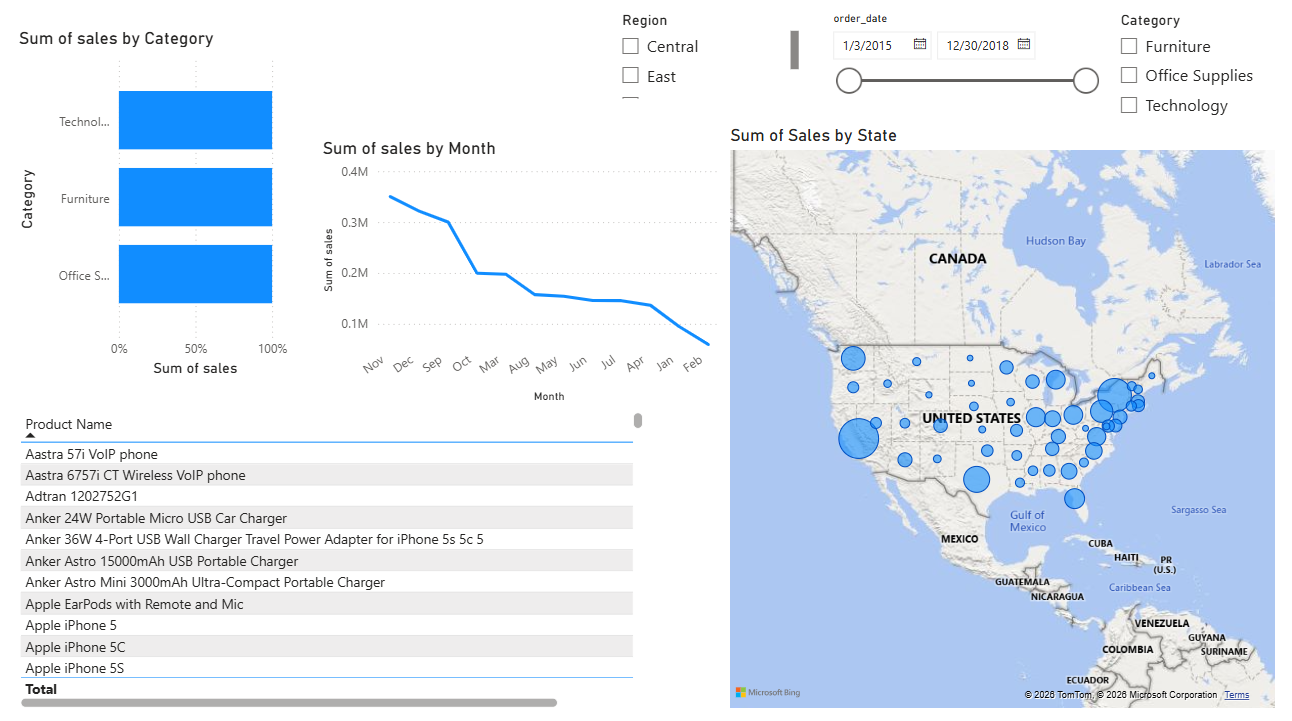

Layout of this report page (visuals, bound fields, positions):
{"tool":"powerbi","page":{"name":"visual & filter ","canvas":[1280,720],"ordinal":1},"visuals":[{"type":"lineChart","fields":{"Y":["Sum(vw_clean_sales.sales)"],"Category":["DateTable.Month"]},"box":[316.7,144.3,398.6,264.1],"z":0},{"type":"hundredPercentStackedBarChart","fields":{"Y":["Sum(vw_clean_sales.sales)"],"Category":["vw_clean_sales.Category"]},"box":[19.6,36.7,272.7,346.1],"z":1000},{"type":"map","fields":{"Category":["clean_sales_data.State"],"Size":["Sum(clean_sales_data.Sales)"]},"box":[715.4,132.1,542.9,574.7],"z":2000},{"type":"tableEx","fields":{"Values":["clean_sales_data.Product Name","Sum(vw_clean_sales.sales)"]},"box":[19.6,408.4,620,298.4],"z":3000},{"type":"slicer","fields":{"Values":["vw_clean_sales.order_date.Variation.Date Hierarchy.Year"]},"box":[808.3,15.9,281.3,95.4],"z":4000},{"type":"slicer","fields":{"Values":["vw_clean_sales.Region"]},"box":[601.6,15.9,190.8,95.4],"z":5000},{"type":"slicer","fields":{"Values":["vw_clean_sales.Category"]},"box":[1089.5,15.9,179.8,116.2],"z":6000}]}

Visuals, with their boxes in screenshot pixels (x1, y1, x2, y2), scaled from the page's 1280x720 canvas onto the 1292x721 screenshot:
lineChart - Sum(vw_clean_sales.sales) x DateTable.Month: x1=320, y1=145, x2=722, y2=409
hundredPercentStackedBarChart - Sum(vw_clean_sales.sales) x vw_clean_sales.Category: x1=20, y1=37, x2=295, y2=383
map - clean_sales_data.State x Sum(clean_sales_data.Sales): x1=722, y1=132, x2=1270, y2=708
tableEx - clean_sales_data.Product Name x Sum(vw_clean_sales.sales): x1=20, y1=409, x2=646, y2=708
slicer - vw_clean_sales.order_date.Variation.Date Hierarchy.Year: x1=816, y1=16, x2=1100, y2=111
slicer - vw_clean_sales.Region: x1=607, y1=16, x2=800, y2=111
slicer - vw_clean_sales.Category: x1=1100, y1=16, x2=1281, y2=132
